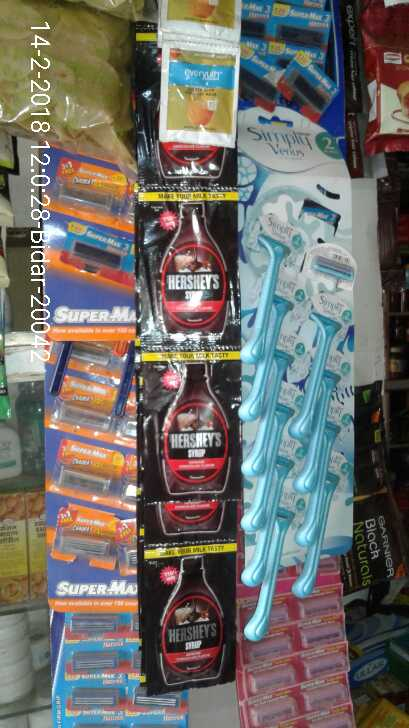reject: (149, 331, 243, 440)
